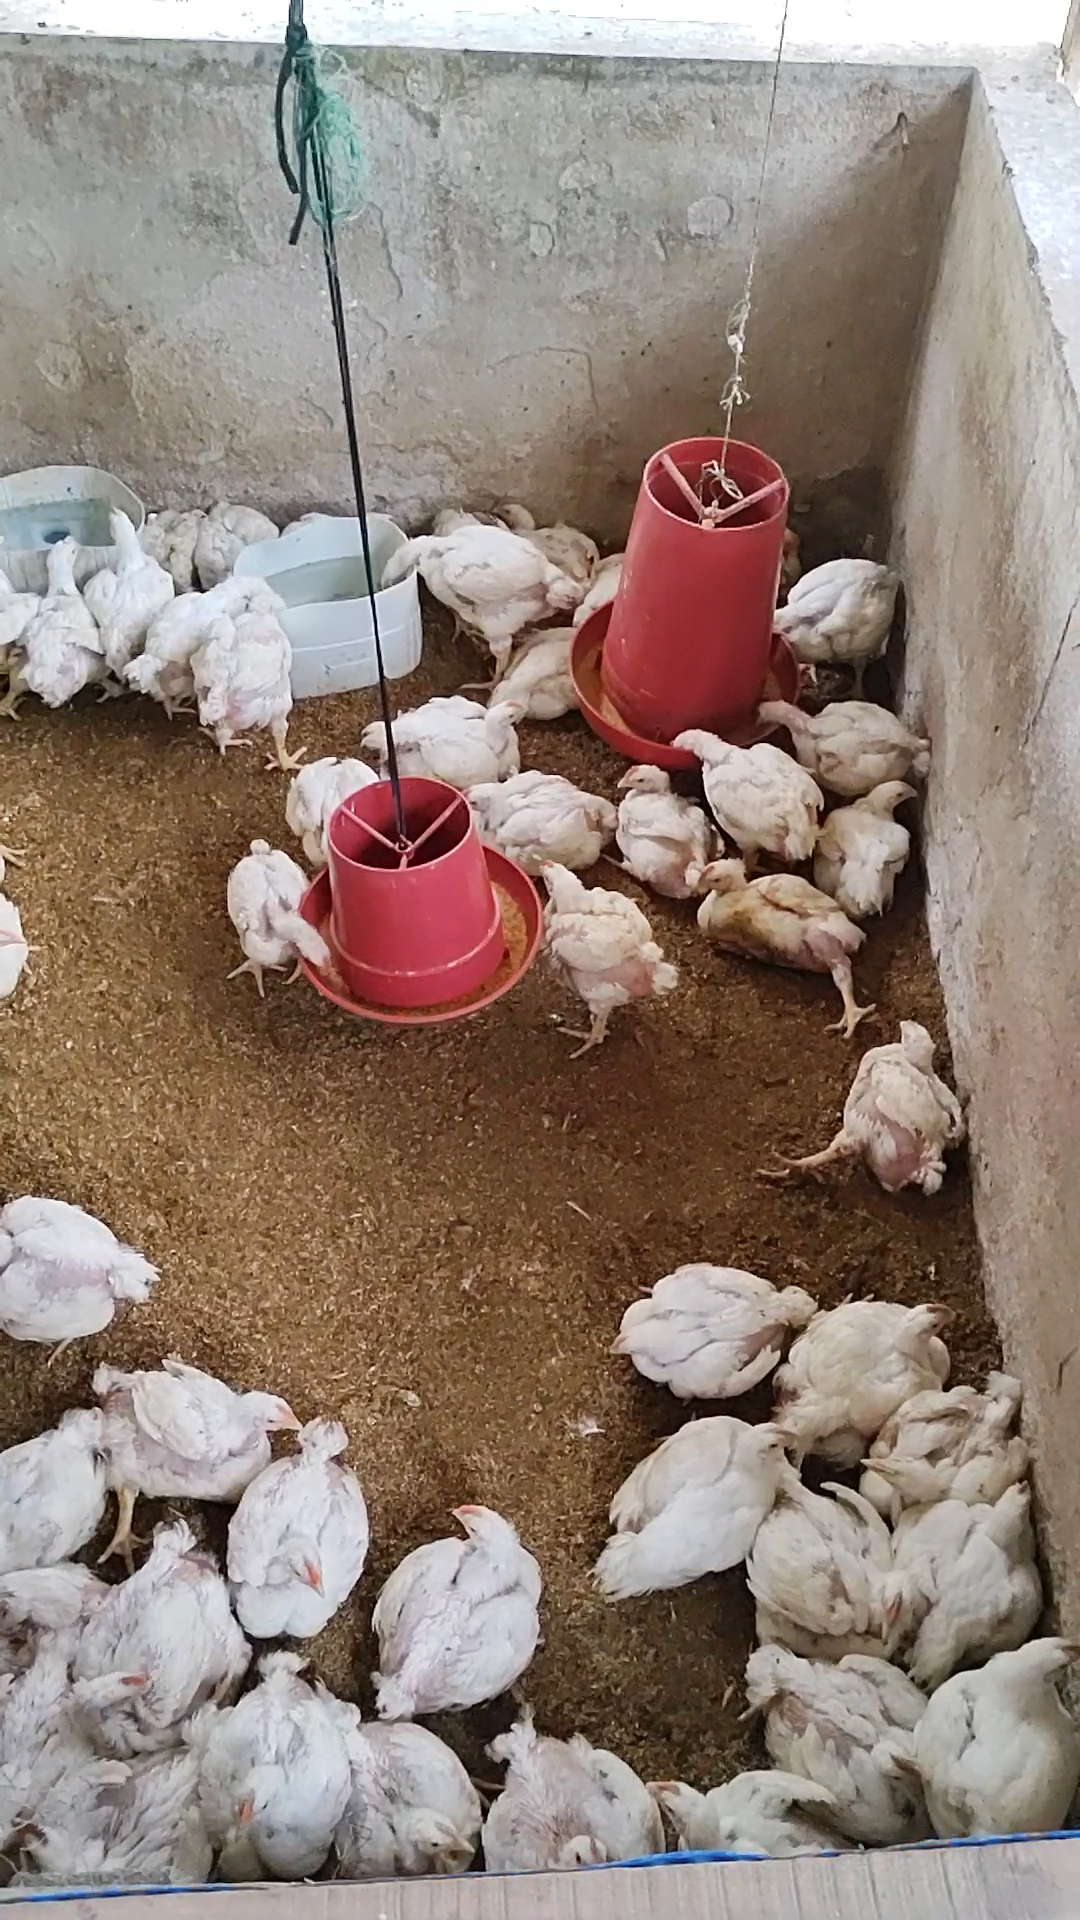Pollos: (765, 1015, 984, 1230), (69, 1520, 255, 1759), (582, 1414, 798, 1618), (367, 1487, 554, 1716), (185, 1636, 339, 1887), (905, 1615, 1080, 1826), (740, 1462, 930, 1656), (725, 1640, 930, 1816), (680, 849, 876, 1031), (520, 851, 686, 1064), (368, 508, 575, 676), (464, 1710, 674, 1866), (316, 1675, 477, 1876), (777, 1279, 957, 1458), (599, 1240, 804, 1393), (116, 1356, 293, 1534), (902, 1466, 1064, 1647), (0, 1182, 161, 1356), (233, 1425, 365, 1633), (669, 705, 820, 868), (214, 828, 352, 984), (745, 673, 930, 786), (8, 1393, 116, 1578), (770, 537, 923, 665), (131, 563, 257, 717), (897, 1352, 1039, 1489), (193, 593, 305, 765), (0, 527, 95, 725), (74, 508, 167, 708), (597, 748, 717, 899), (464, 765, 617, 876), (365, 696, 533, 793), (824, 771, 923, 928), (492, 605, 615, 731), (276, 737, 401, 856), (505, 483, 615, 572), (182, 491, 281, 578)
